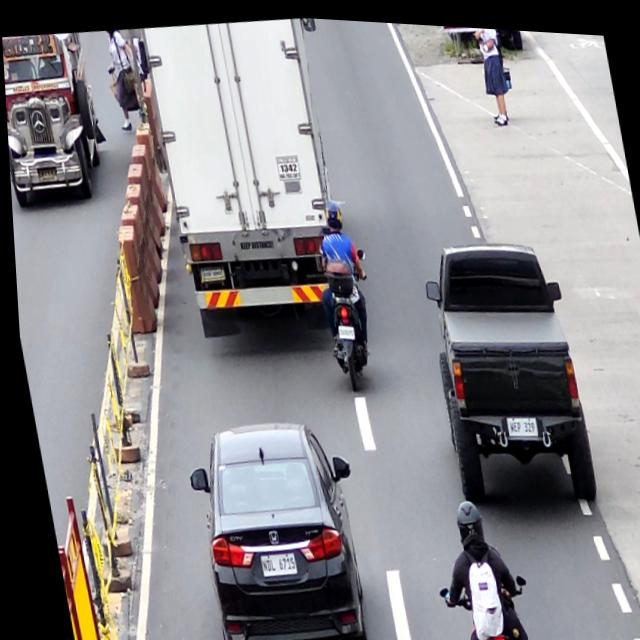Car: (411, 222, 596, 518), (172, 404, 377, 640)
License-Plate: (251, 546, 292, 575), (500, 407, 534, 434), (196, 264, 223, 283), (331, 319, 353, 337)
Motorcycle: (312, 238, 382, 389)
Truck: (143, 7, 370, 350)
